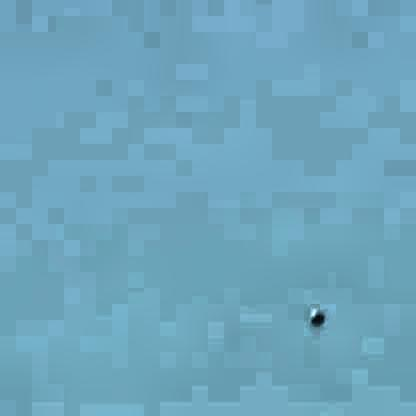golfball: (307, 304, 320, 322)
